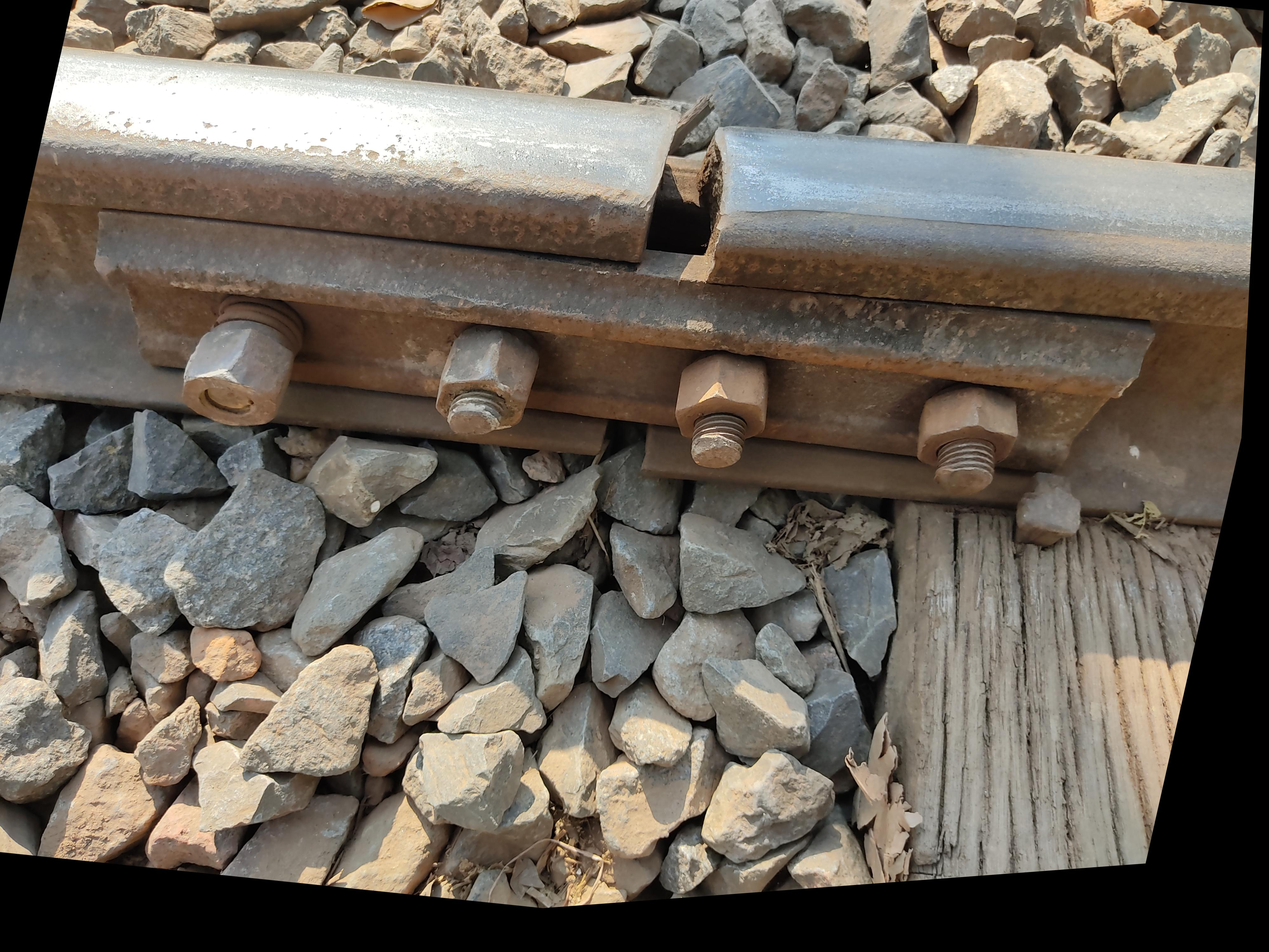person: (612, 0, 939, 269), (654, 288, 777, 404)
